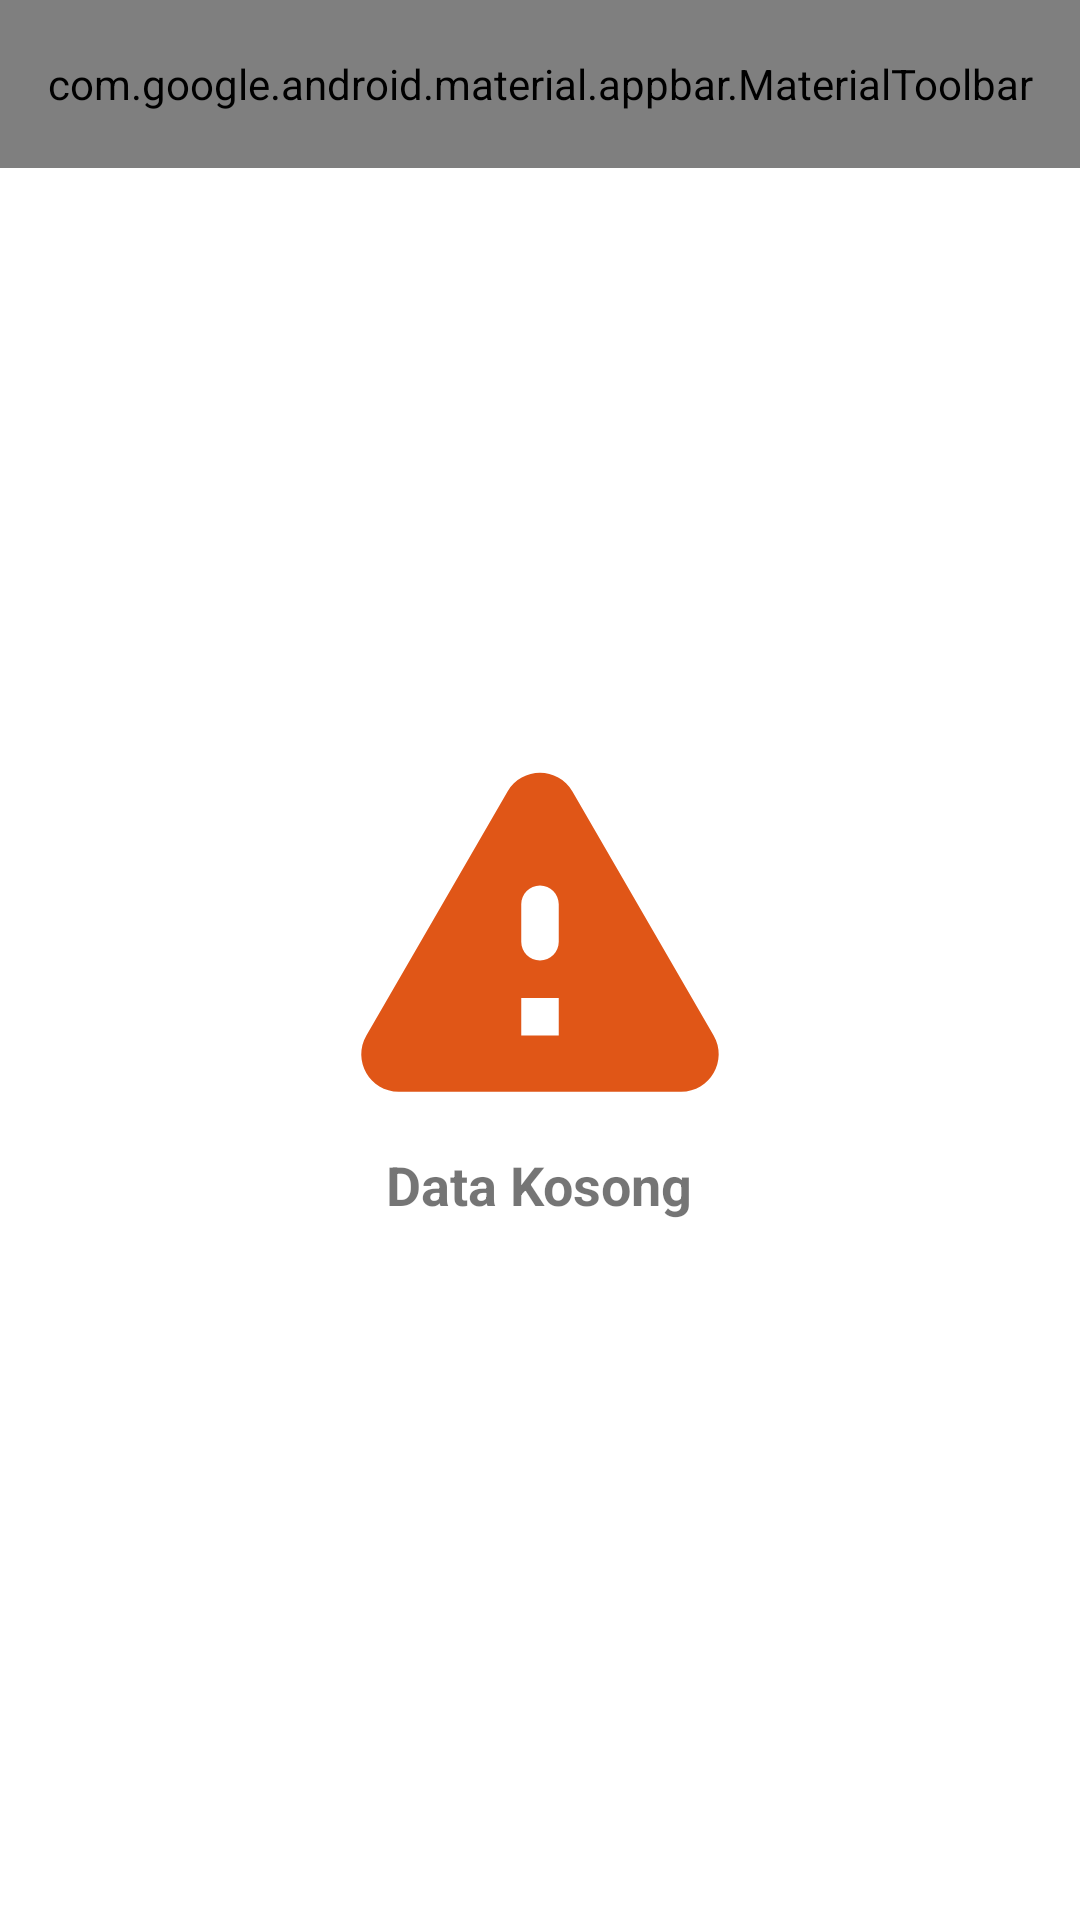

Where to tap for icons on this 1080px x 1920px app screen, as (x,y):
warning: (540,932)
